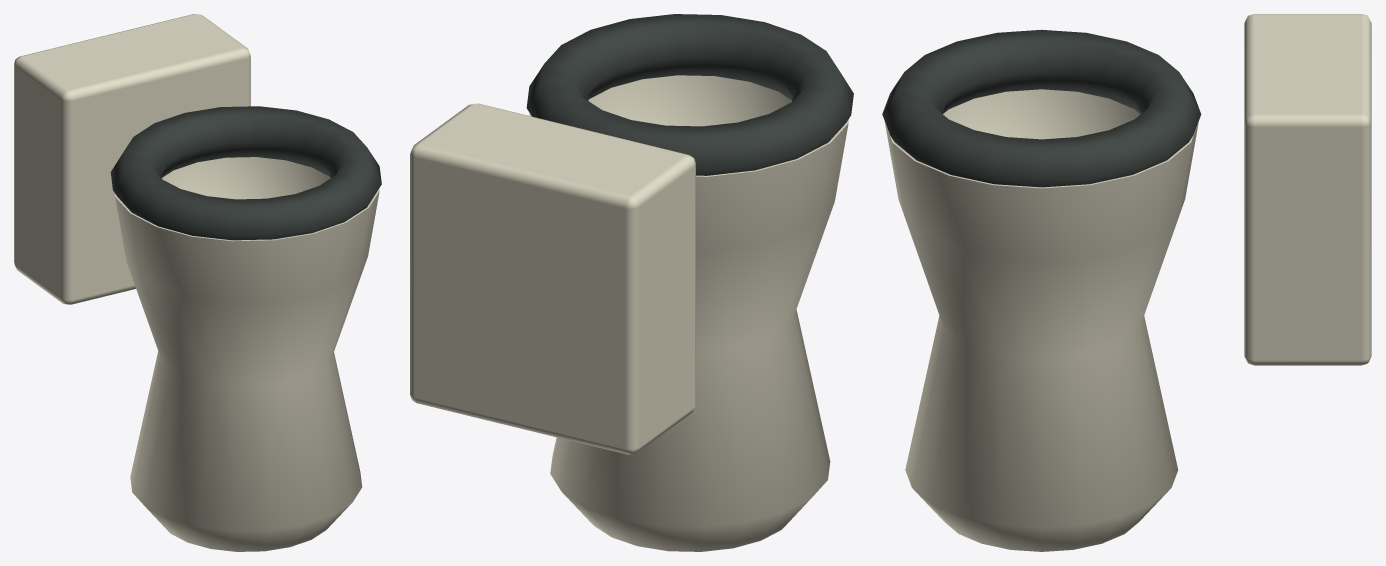
Rendered from ToiletPan.glb.
The picture shows the model from 3 angles, left to right: view 1: azimuth 30°, elevation 25°; view 2: azimuth 150°, elevation 25°; view 3: azimuth 270°, elevation 25°; orthographic projection. The views are drawn at different scales.
Visible parts, largest first — view 1: bathroom-toilet-pan; view 2: bathroom-toilet-pan; view 3: bathroom-toilet-pan.
Part boxes in pixels (left/top/right/bottom): bathroom-toilet-pan: left=14, top=14, right=381, bottom=551; bathroom-toilet-pan: left=410, top=14, right=853, bottom=551; bathroom-toilet-pan: left=882, top=14, right=1371, bottom=551.
Bounding box in the file's own units: 0.374 × 0.575 × 0.5737.
